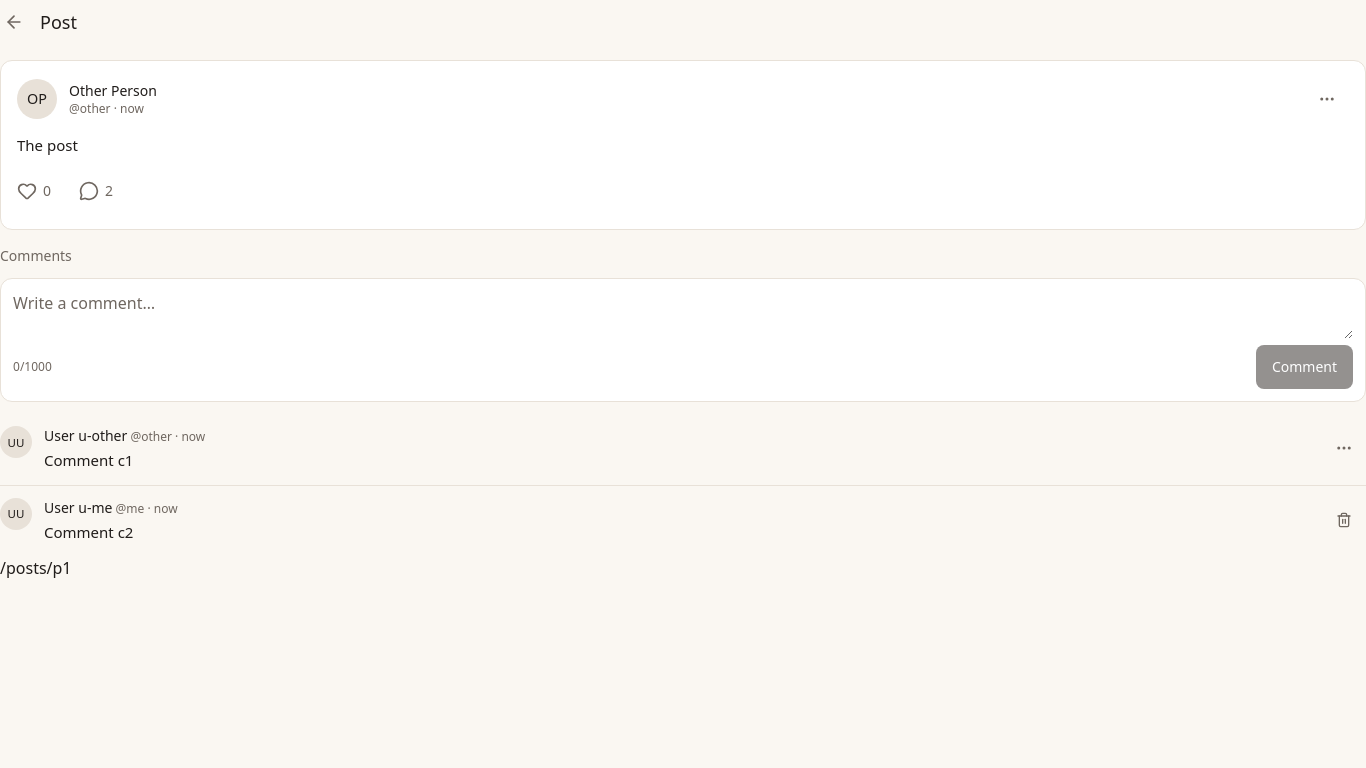
Test case: PostDetailPage › lets you delete your own comment only, and lowers the count
The image size is (1366, 768).
Expected: the text "Comment c2" is shown, [44,522,133,542]
Click the button named "Delete comment" at {"x": 1344, "y": 520}, box [1322,498,1365,542]
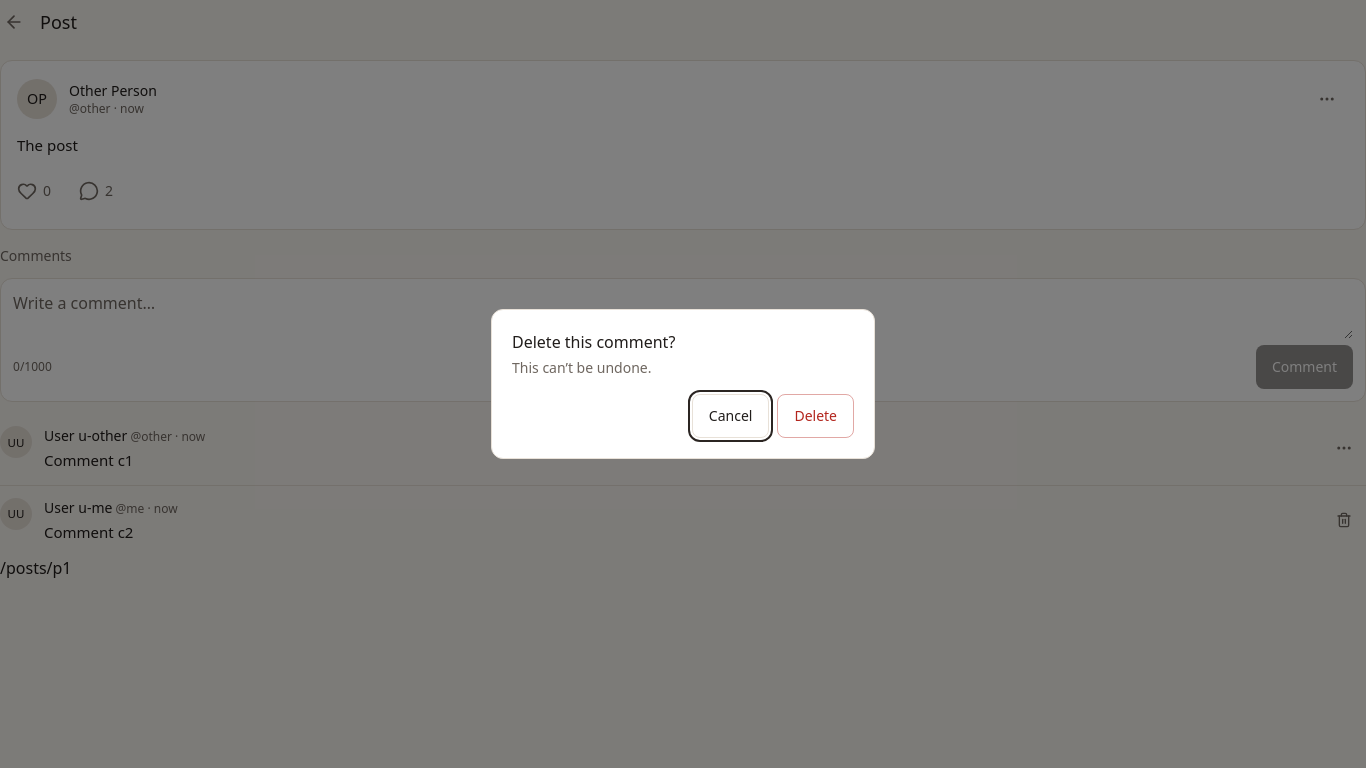
Click the button "Delete" at {"x": 816, "y": 416}, box [777,394,854,438]
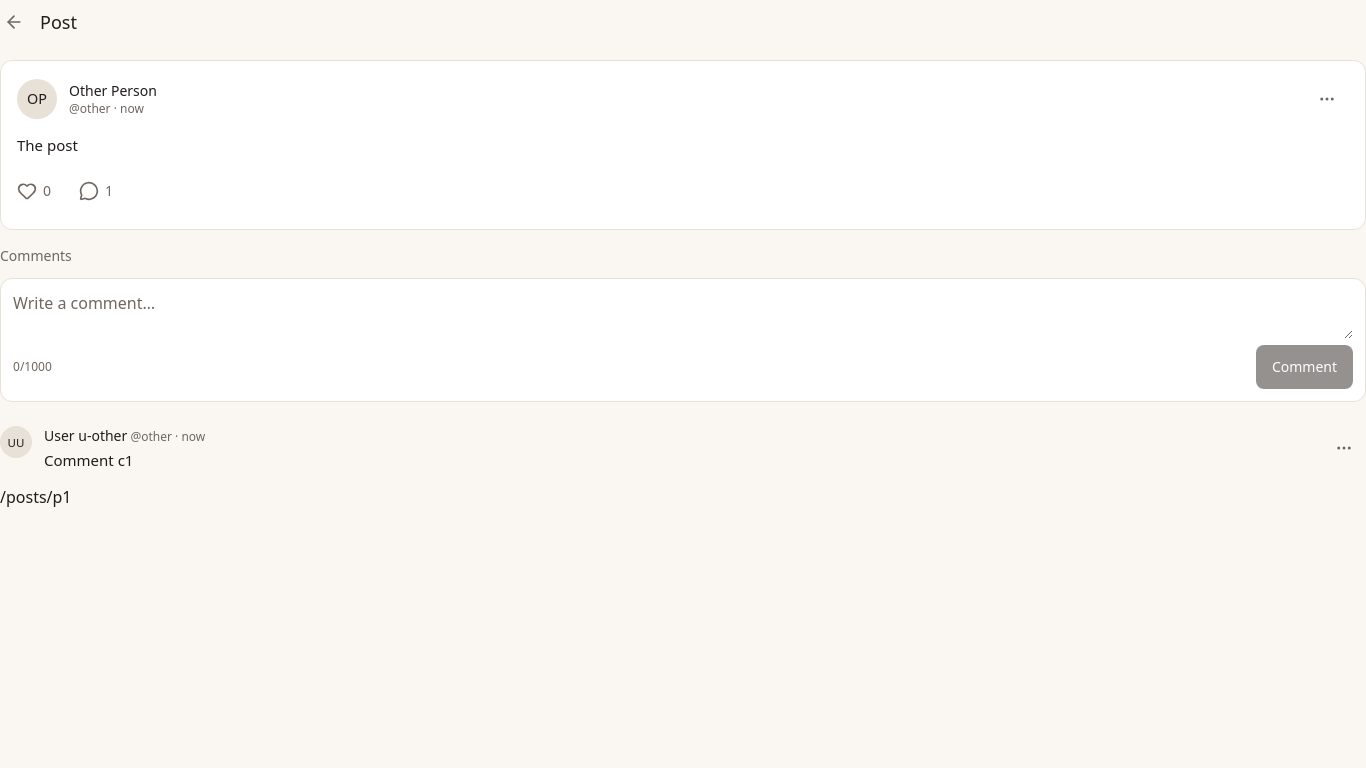
Expected: the text "Comment c1" is shown, [44,450,133,470]
Expected: the text "Comment c2" is gone
Expected: the element named "1 comment" is shown, [79,181,113,201]
